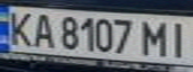0: (93, 16, 115, 52)
1: (78, 15, 96, 52)
7: (112, 16, 139, 54)
8: (57, 13, 81, 51)
A: (30, 10, 57, 48)
I: (163, 18, 193, 58)
K: (3, 8, 36, 47)
M: (139, 17, 175, 56)
